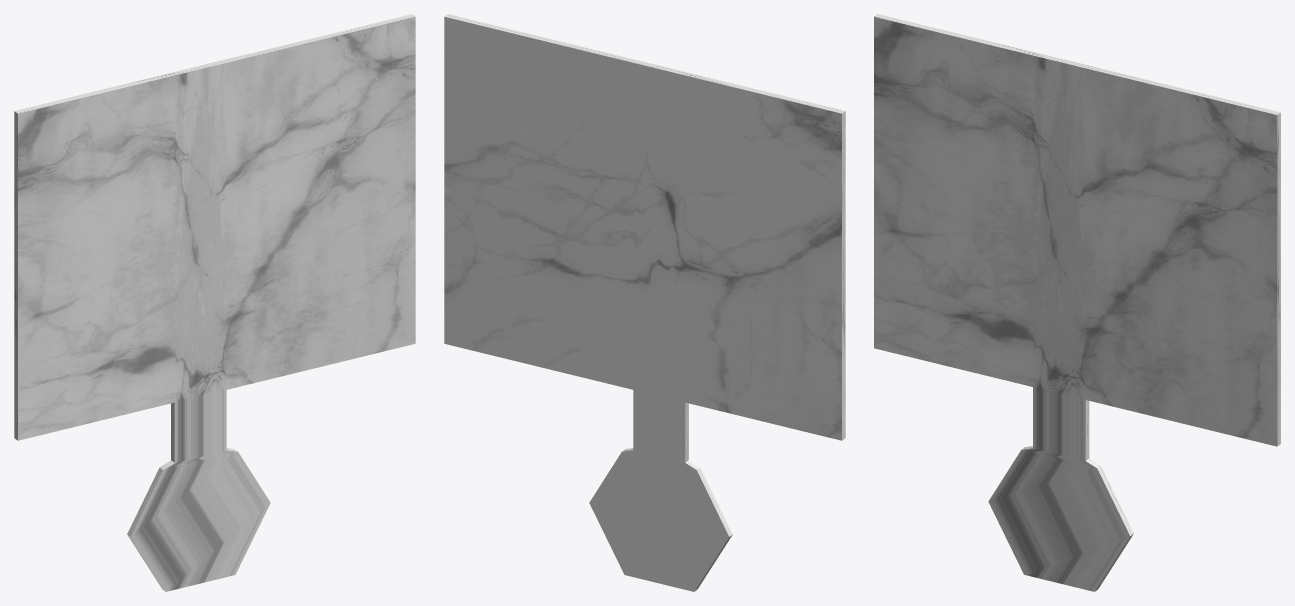
File: matesu_exebition_floor.fbx
3 views of the same model, side by side, from view 1: azimuth 30°, elevation 25°; view 2: azimuth 150°, elevation 25°; view 3: azimuth 330°, elevation 25° (orthographic).
Visible parts, largest first — view 1: floor; view 2: floor; view 3: floor.
Boxes of the visible parts, x1,y1,x2,y2 form: floor: [14, 14, 415, 591]; floor: [444, 14, 845, 591]; floor: [874, 14, 1280, 591].
Size of the model in its own units: 3185 by 3935 by 50.79.
1 material, 1 textured.
